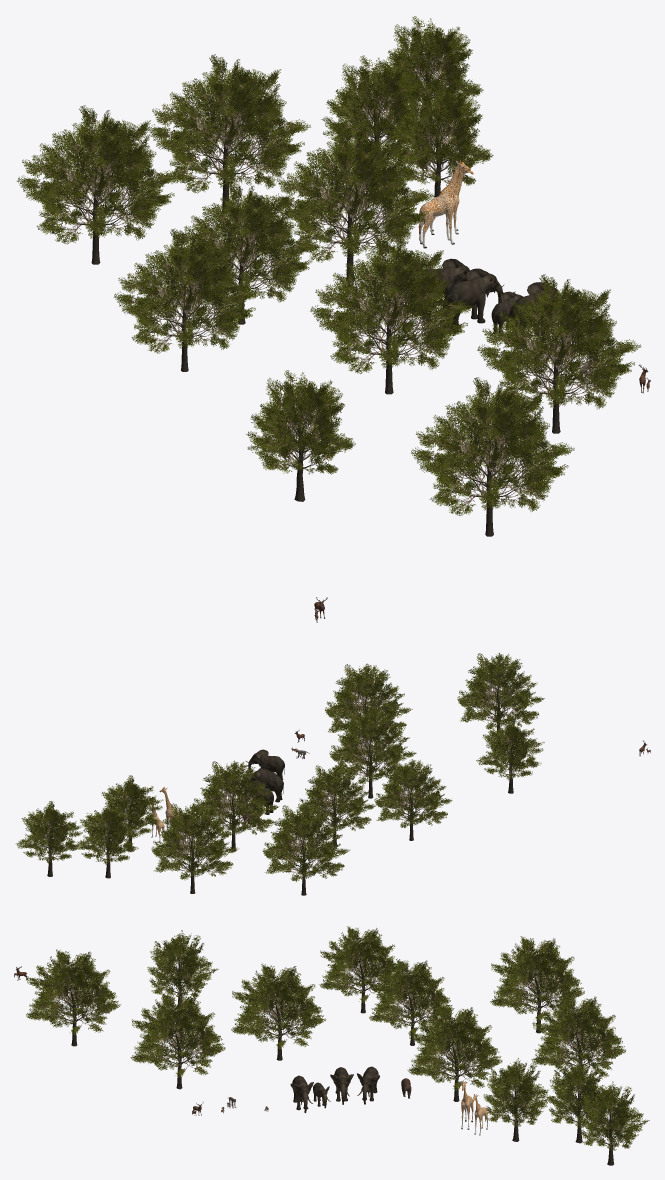
File: AnimalTrees.gltf
3 renders of one model, top to bottom at view 1: azimuth 30°, elevation 25°; view 2: azimuth 150°, elevation 25°; view 3: azimuth 270°, elevation 25°, orthographic. The views are drawn at different scales.
Parts seen in each view (by area): view 1: Bark_9_2.007, Bark_9_2.008, Bark_9_2.016, Bark_9_2.014, Bark_9_2.009, Bark_9_2.011, Bark_9_2.006, Bark_9_2.015, Bark_9_2.004, Bark_9_2.013, Bark_9_2, Bark_9_2.003 (+2 smaller); view 2: Bark_9_2.014, Bark_9_2.016, Bark_9_2.008, Bark_9_2.007, Bark_9_2.011, Bark_9_2.006, Bark_9_2.009, Bark_9_2.015, Bark_9_2, Bark_9_2.004, Bark_9_2.003, Bark_9_2.013 (+2 smaller); view 3: Bark_9_2.009, Bark_9_2.008, Bark_9_2.007, Bark_9_2.011, Bark_9_2.016, Bark_9_2.014, Bark_9_2.015, Bark_9_2.006, Bark_9_2.013, Bark_9_2.003, Bark_9_2.004, Bark_9_2 (+3 smaller).
Boxes of the visible parts, x1,y1,x2,y2 form: Bark_9_2.007: [310, 235, 474, 394]; Bark_9_2.008: [411, 377, 574, 536]; Bark_9_2.016: [16, 105, 180, 264]; Bark_9_2.014: [147, 54, 310, 213]; Bark_9_2.009: [477, 274, 640, 433]; Bark_9_2.011: [272, 123, 435, 282]; Bark_9_2.006: [113, 228, 260, 371]; Bark_9_2.015: [173, 181, 317, 324]; Bark_9_2.004: [246, 370, 355, 501]; Bark_9_2.013: [385, 81, 493, 197]; Bark_9_2: [321, 55, 422, 185]; Bark_9_2.003: [378, 16, 483, 145]; Bark_9_2.014: [151, 803, 238, 893]; Bark_9_2.016: [262, 804, 349, 895]; Bark_9_2.008: [457, 653, 544, 739]; Bark_9_2.007: [329, 707, 416, 798]; Bark_9_2.011: [193, 760, 279, 850]; Bark_9_2.006: [374, 759, 452, 840]; Bark_9_2.009: [325, 663, 412, 752]; Bark_9_2.015: [298, 765, 376, 845]; Bark_9_2: [73, 802, 141, 878]; Bark_9_2.004: [476, 717, 544, 793]; Bark_9_2.003: [16, 801, 82, 876]; Bark_9_2.013: [101, 775, 163, 850]; Bark_9_2.009: [130, 992, 225, 1089]; Bark_9_2.008: [26, 949, 120, 1046]; Bark_9_2.007: [231, 963, 326, 1060]; Bark_9_2.011: [407, 1005, 502, 1101]; Bark_9_2.016: [490, 936, 584, 1033]; Bark_9_2.014: [531, 994, 626, 1077]; Bark_9_2.015: [369, 958, 454, 1045]; Bark_9_2.006: [319, 926, 398, 1013]; Bark_9_2.013: [483, 1058, 554, 1141]; Bark_9_2.003: [578, 1081, 649, 1165]; Bark_9_2.004: [147, 930, 218, 1013]; Bark_9_2: [546, 1059, 607, 1143].
Bounding box in the file's own units: 334 × 86.86 × 457.
Materials: 62 (58 with a texture image).
